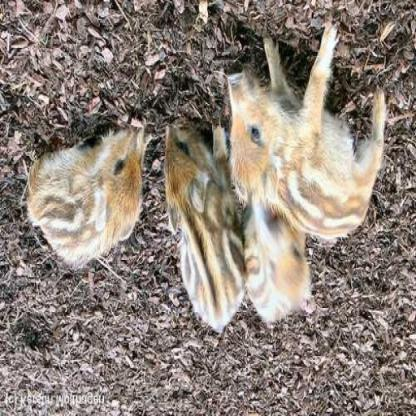boar: (221, 28, 415, 226), (16, 104, 160, 281), (147, 111, 225, 291)
